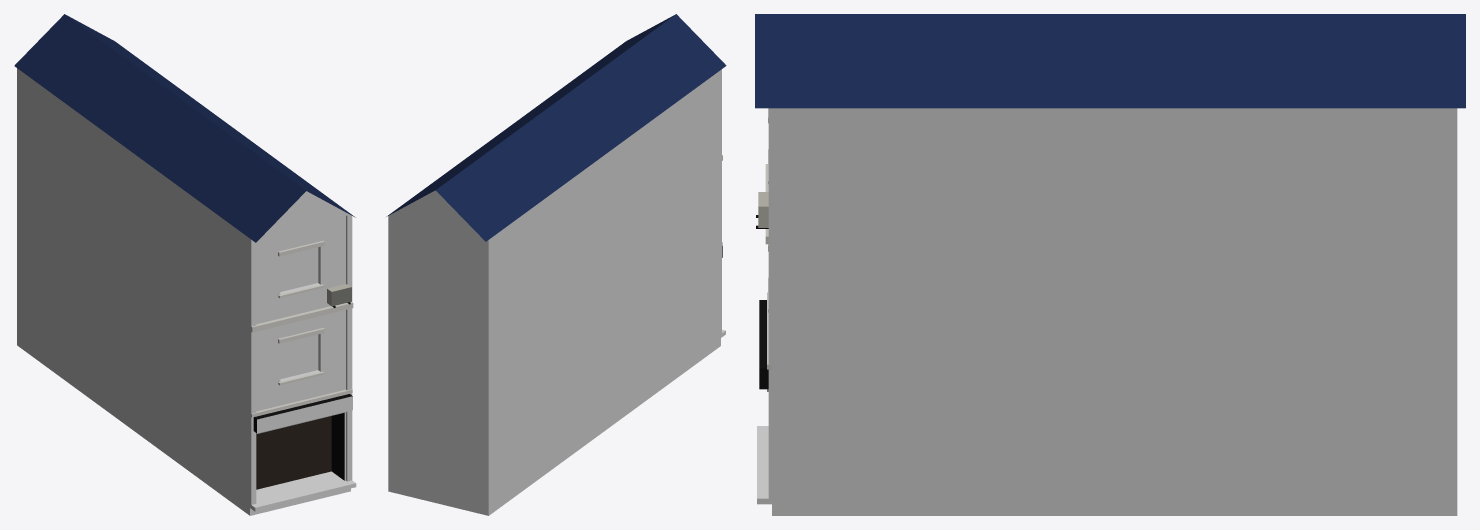
3 renders of one model, left to right at view 1: azimuth 30°, elevation 25°; view 2: azimuth 150°, elevation 25°; view 3: azimuth 270°, elevation 25°, orthographic. The views are drawn at different scales.
Visible parts, largest first — view 1: TH_D16_C_05_LOD0; view 2: TH_D16_C_05_LOD0; view 3: TH_D16_C_05_LOD0.
Part boxes in pixels (left/top/right/bottom): TH_D16_C_05_LOD0: left=14, top=14, right=356, bottom=515; TH_D16_C_05_LOD0: left=386, top=14, right=726, bottom=515; TH_D16_C_05_LOD0: left=755, top=14, right=1465, bottom=515.
Size of what is drawn, in the model's own units: 4 by 12 by 16.6.
